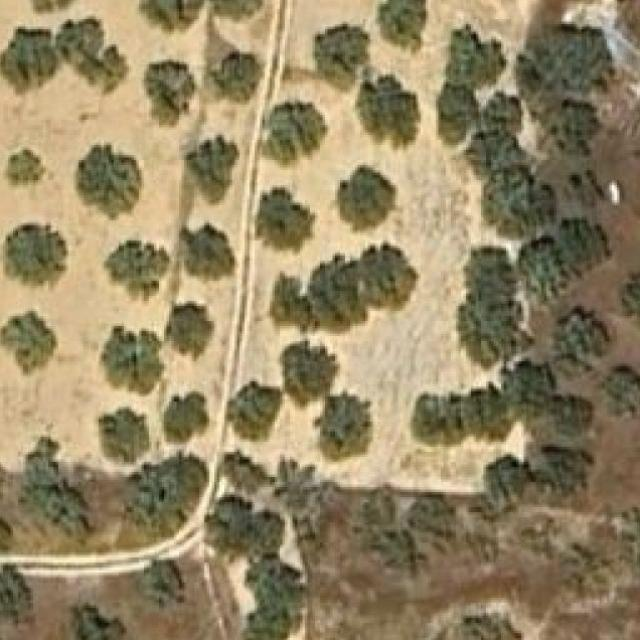Tree: (514, 24, 610, 118), (18, 437, 94, 537), (127, 455, 207, 540), (58, 17, 129, 93), (73, 142, 142, 220), (358, 71, 422, 150), (207, 500, 278, 566), (3, 222, 68, 291), (102, 324, 165, 394), (330, 165, 396, 230), (461, 294, 521, 364), (1, 26, 61, 95), (358, 243, 419, 309), (104, 240, 169, 301), (486, 168, 544, 234), (184, 135, 240, 203), (310, 259, 363, 328), (446, 24, 501, 90), (318, 394, 373, 460), (1, 309, 56, 374), (142, 59, 195, 125), (526, 396, 590, 450), (258, 188, 313, 249), (182, 222, 238, 281), (227, 379, 281, 440), (283, 341, 336, 402), (553, 314, 602, 379), (313, 24, 368, 80), (273, 103, 328, 158), (551, 105, 602, 163), (481, 460, 534, 515), (164, 301, 212, 361), (377, 0, 425, 59), (99, 406, 149, 462), (408, 495, 462, 546), (270, 276, 316, 335), (277, 462, 325, 517), (556, 218, 607, 269), (217, 49, 263, 103), (410, 396, 454, 450), (504, 359, 550, 410), (438, 79, 476, 140), (164, 391, 209, 442), (471, 253, 516, 304), (459, 391, 504, 440), (0, 565, 36, 626), (224, 450, 275, 493), (139, 0, 202, 34), (459, 608, 524, 640), (602, 366, 640, 420), (237, 603, 291, 640), (144, 557, 187, 603), (71, 605, 127, 640), (3, 148, 46, 188), (622, 264, 640, 327), (211, 0, 262, 21), (617, 0, 640, 44)
